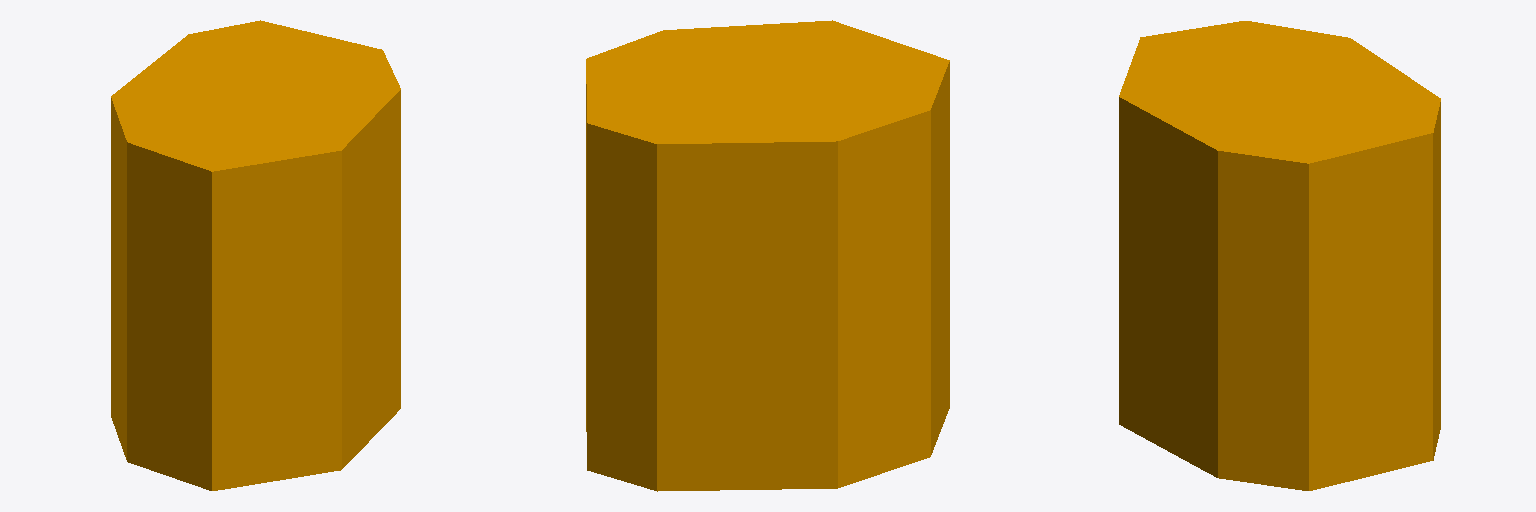
The robot description file, URDF, robot "object":
<?xml version="1.0"?>
<robot name="object">
  <link name="object">
    <visual>
      <origin xyz="0 0 0"/>
      <geometry>
        <mesh filename="meshes/generated/col_072.obj" scale="0.03 0.03 0.03"/>
      </geometry>
    </visual>
    <collision>
      <origin xyz="0 0 0"/>
      <geometry>
        <mesh filename="meshes/generated/col_072.obj" scale="0.03 0.03 0.03"/>
      </geometry>
    </collision>
    <inertial>
      <density value="1000.0"/>
    </inertial>
  </link>
</robot>

--- Render facts (derived) ---
3 views of the same robot in one strip: view 1: azimuth 30°, elevation 25°; view 2: azimuth 150°, elevation 25°; view 3: azimuth 270°, elevation 25° (orthographic).
Model object with 1 links and 0 joints (none), rooted at object, posed every joint at zero.
Visible links, largest first — view 1: object; view 2: object; view 3: object.
Link boxes in pixels (x1,y1,x2,y2): object: [111, 20, 400, 490]; object: [586, 20, 949, 491]; object: [1119, 21, 1440, 490].
Size in the robot's own frame: 0.0563 by 0.0535 by 0.06 metres.
1 mesh visuals loaded from 1 distinct referenced files (1 OBJ).
